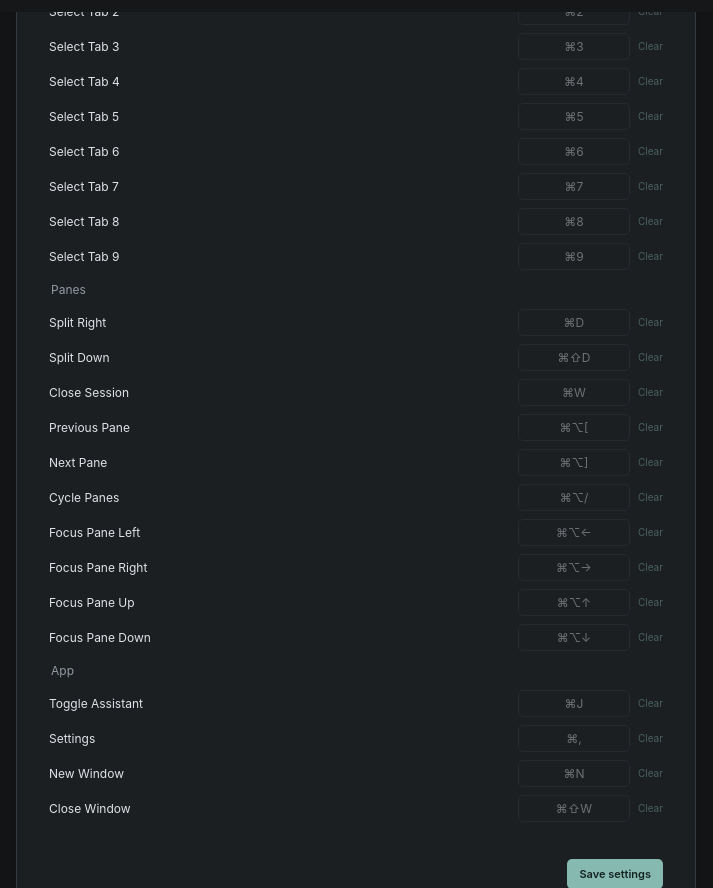
Test: rejects conflicting and reserved shortcuts, supports Escape and reset
The width and height of the screenshot is (713, 888).
(page scrolled)
Click the button named "Shortcut for Next Pane" at (574, 462), box [518, 449, 630, 476]
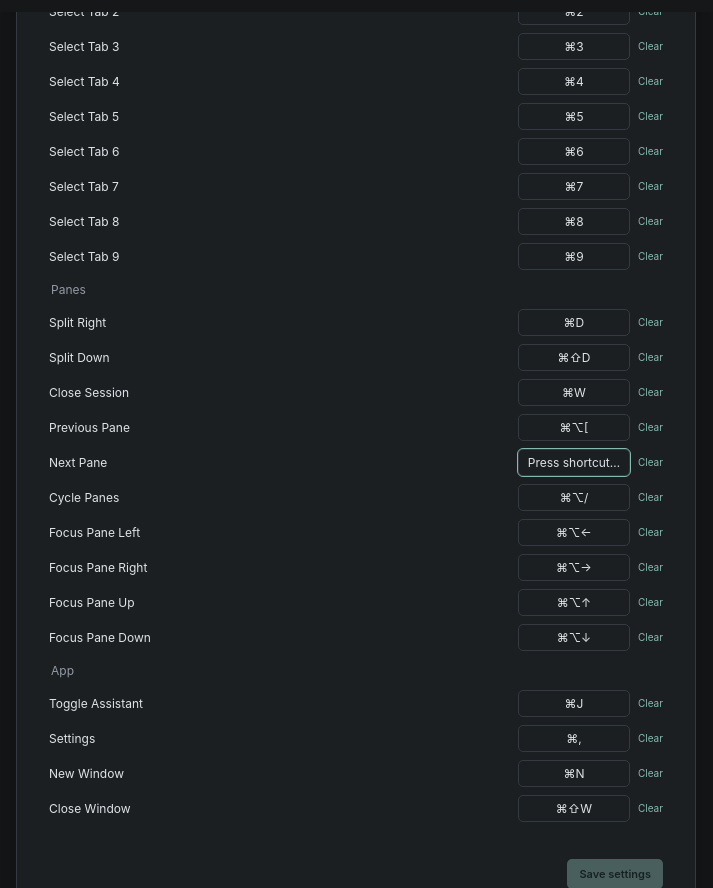
Press t in the button with aria-label "Shortcut for Next Pane", box [518, 449, 630, 476]
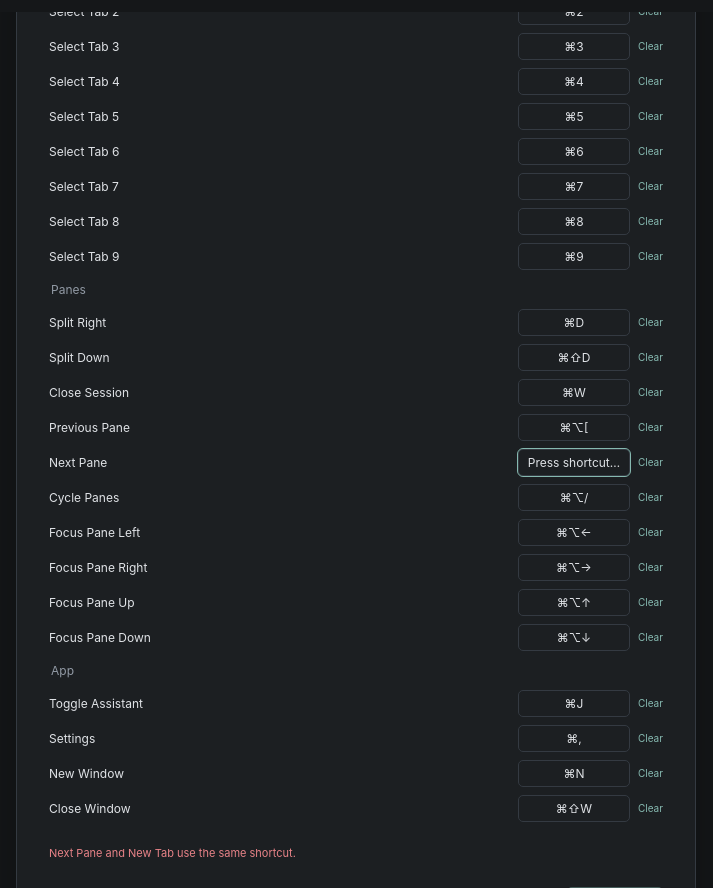
Result: the message shows "same shortcut" at [49, 846, 296, 860]
Press c in the button with aria-label "Shortcut for Next Pane", box [518, 449, 630, 476]
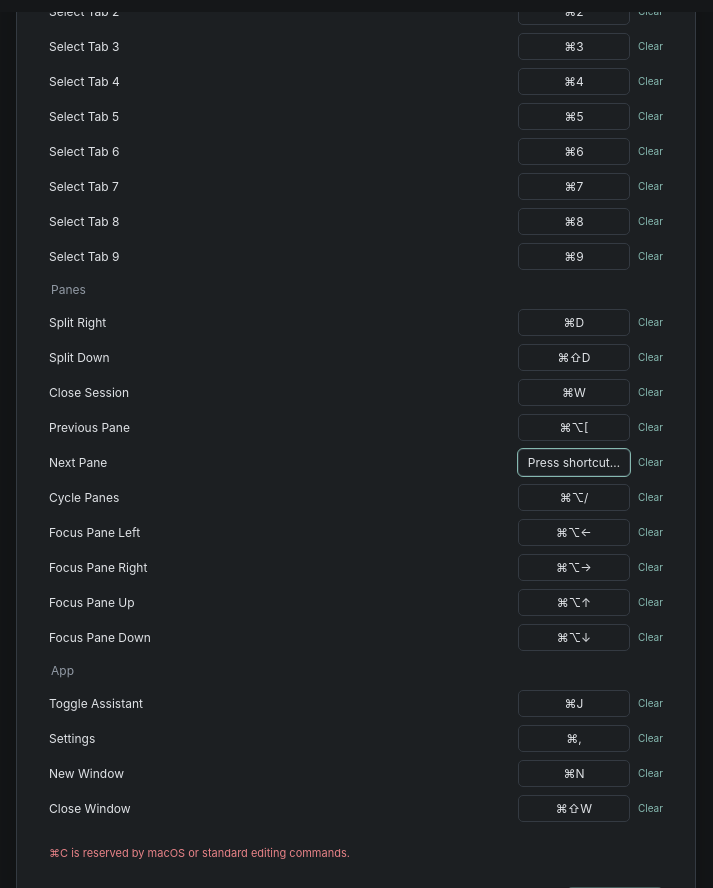
Result: the message shows "reserved" at [49, 846, 350, 860]
Press Escape in the button with aria-label "Shortcut for Next Pane", box [518, 449, 630, 476]
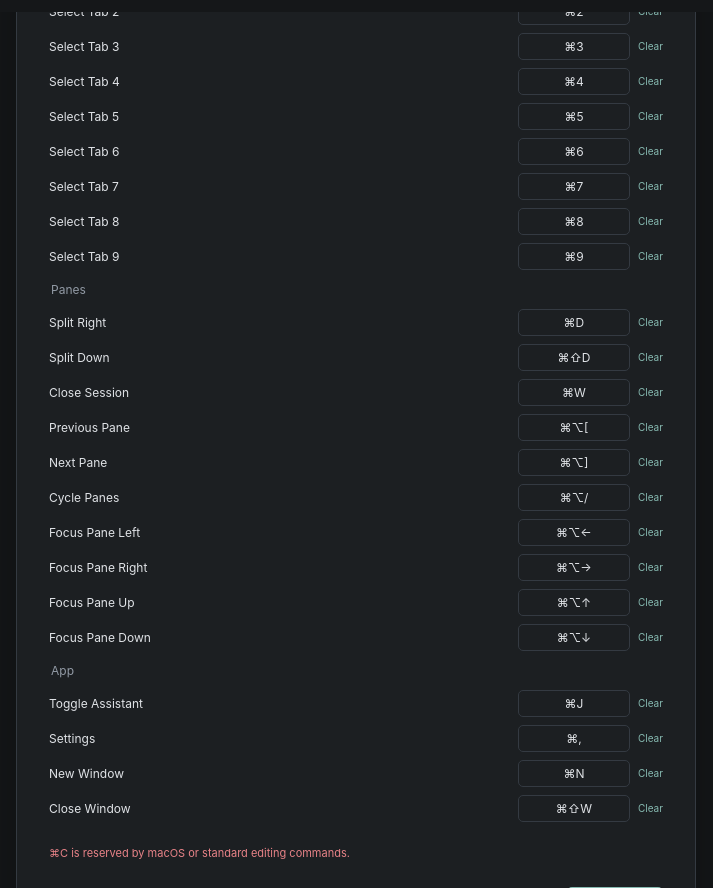
Click the button with aria-label "Clear shortcut for Next Pane" at (650, 462), box [638, 453, 663, 471]
(page scrolled)
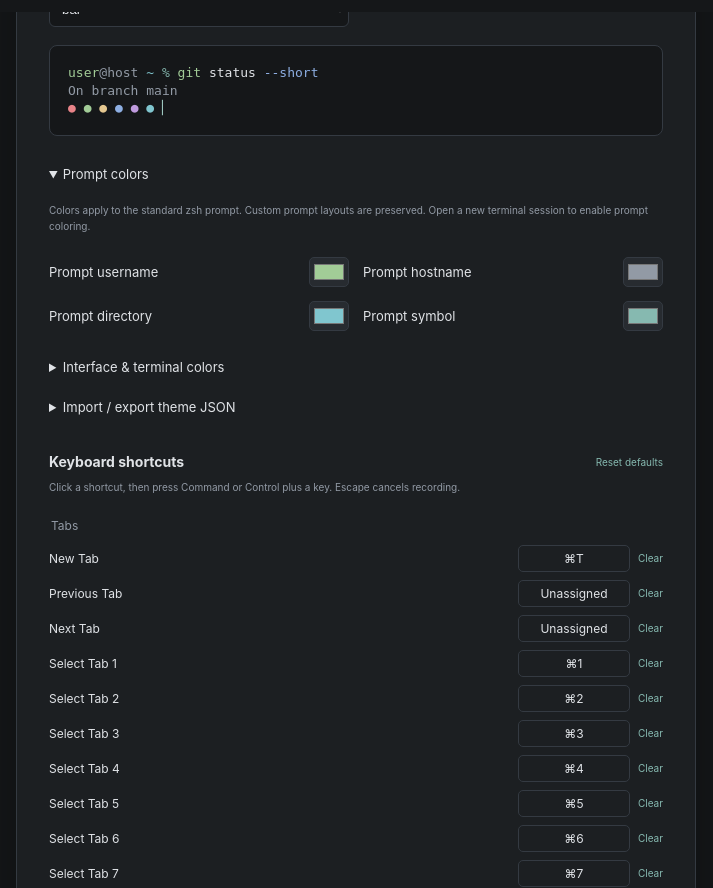
Click the button "Reset defaults" at (629, 462), box [596, 453, 663, 471]
(page scrolled)
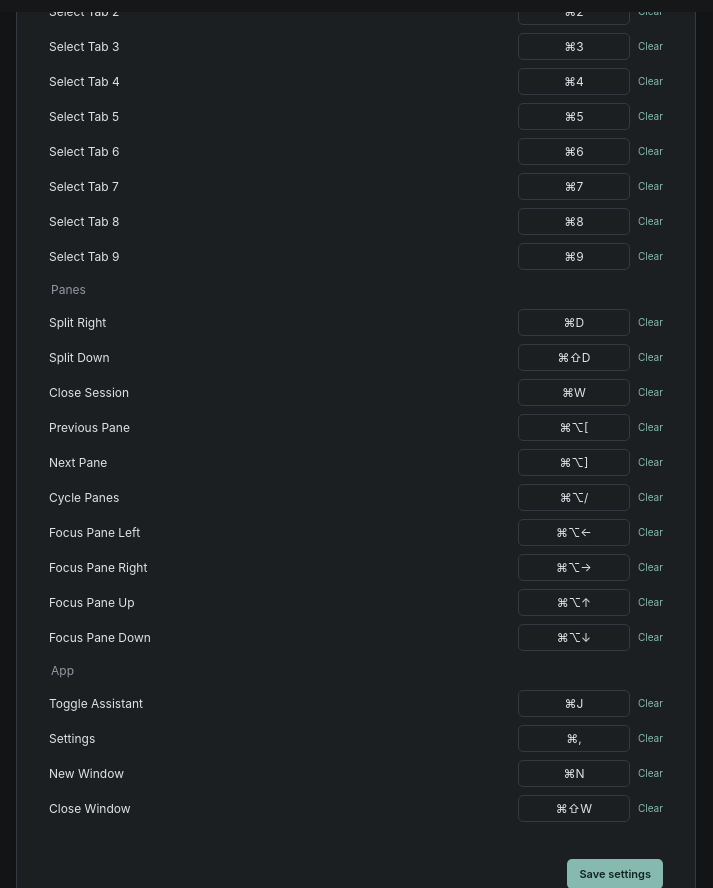
Result: the button named "Shortcut for Next Pane" reads "⌘⌥]" at [518, 449, 630, 476]
